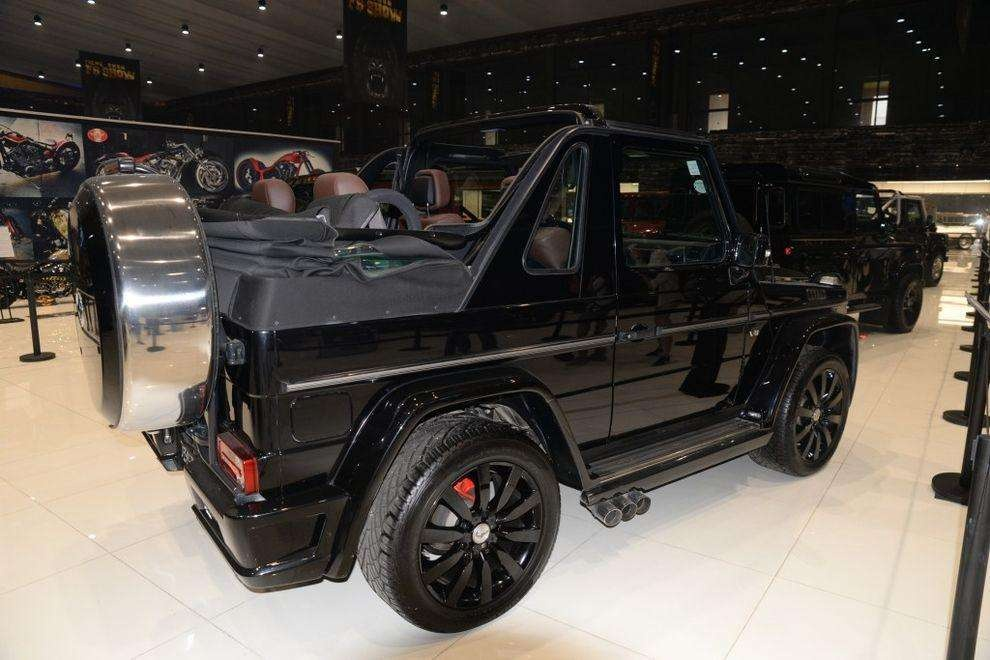jeep: (98, 109, 859, 624)
